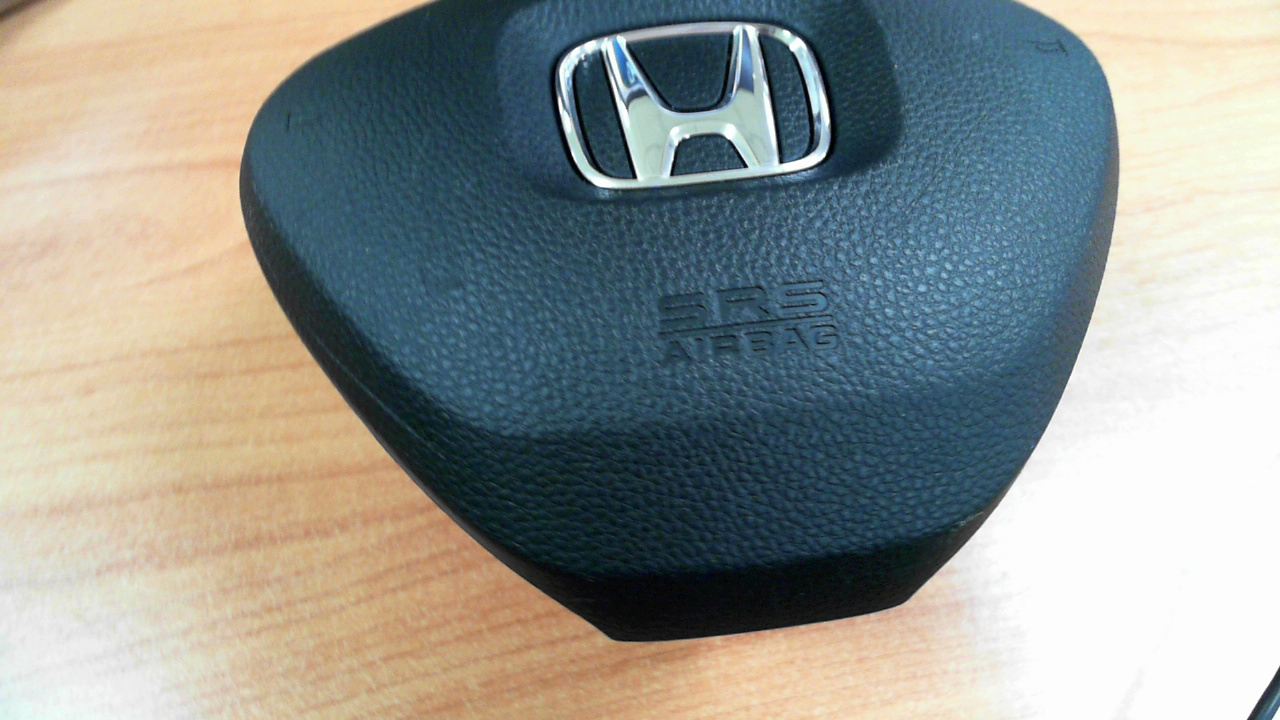Airbag: (239, 0, 1120, 645)
Honda: (554, 21, 831, 190)
